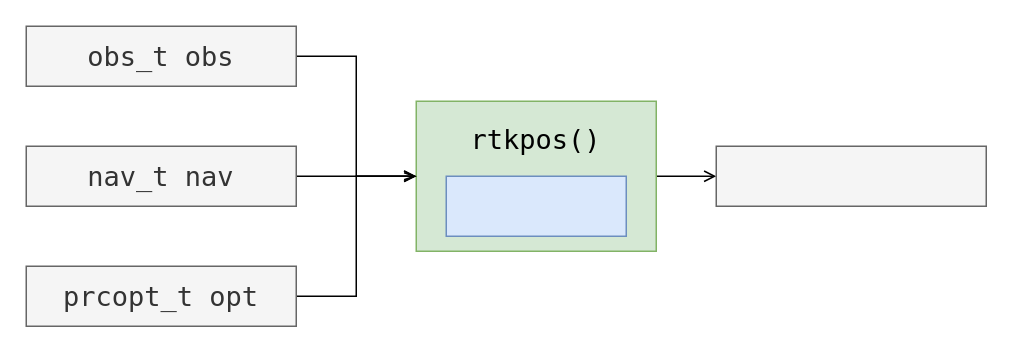
The diagram is 1013 pixels wide and 353 high, and some of its shapes have lost their labels. The shapes that lost their labels are listed below. From the top down, each one's centre as x and y in pixels, then its label:
the point at 850,175: rtk_t rtk
the point at 535,205: relpos()
